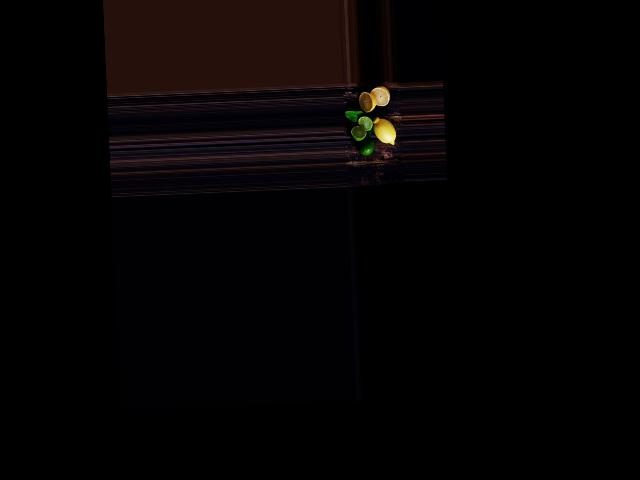lemon: (370, 115, 397, 147)
